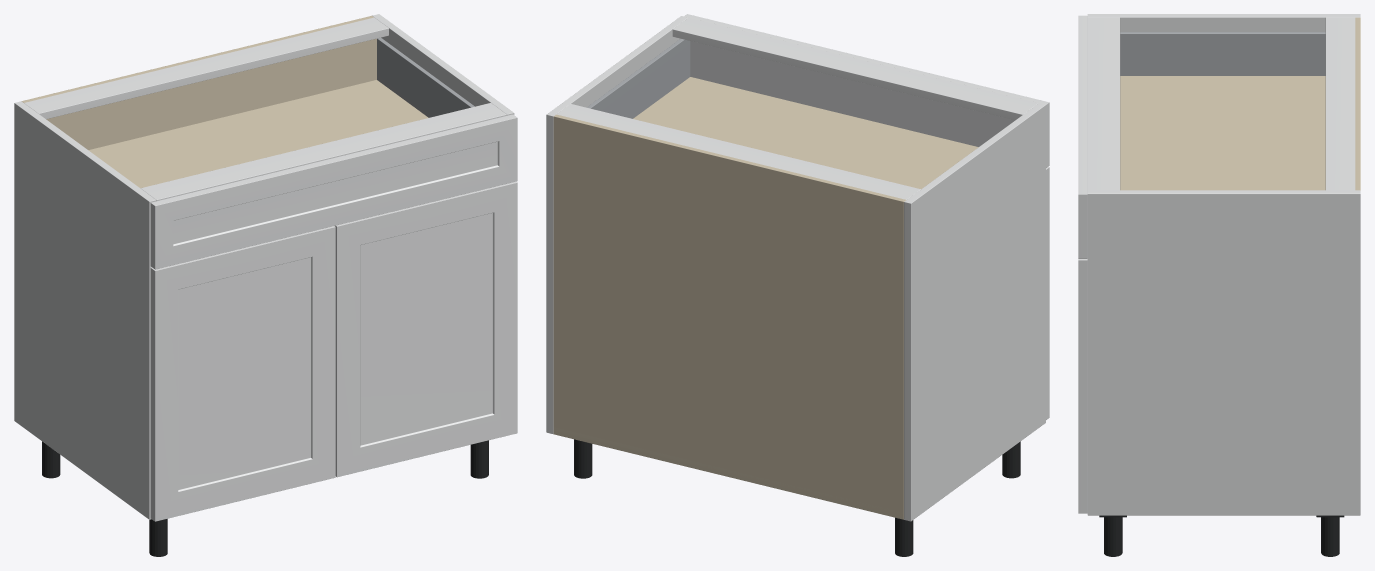
File: PLY-WSS-B36.glb
3 views of the same model, side by side, from view 1: azimuth 30°, elevation 25°; view 2: azimuth 150°, elevation 25°; view 3: azimuth 270°, elevation 25° (orthographic).
Parts seen in each view (by area): view 1: Shaker door, Shaker door.001, Carcass left, Drawer front, Drawer bottom, Drawer back, Top support rail, Top support rail.001, Metal drawer side.001, Carcass right, Carcass back, Adjustable foot.001 (+1 smaller); view 2: Carcass back, Carcass left, Drawer bottom, Drawer front, Top support rail.001, Top support rail, Carcass right, Metal drawer side.001, Carcass bottom, Shaker door, Adjustable foot, Adjustable foot.002; view 3: Carcass right, Drawer bottom, Metal drawer side, Top support rail.001, Top support rail, Carcass left, Shaker door.001, Drawer front, Carcass back, Adjustable foot.003, Adjustable foot.002.
Boxes of the visible parts, bbox=[...] form: Shaker door: bbox=[150, 226, 335, 521]; Shaker door.001: bbox=[335, 181, 517, 477]; Carcass left: bbox=[14, 101, 156, 519]; Drawer front: bbox=[150, 114, 517, 269]; Drawer bottom: bbox=[88, 80, 428, 188]; Drawer back: bbox=[46, 38, 376, 149]; Top support rail: bbox=[24, 17, 388, 119]; Top support rail.001: bbox=[141, 103, 506, 201]; Metal drawer side.001: bbox=[377, 37, 474, 117]; Carcass right: bbox=[372, 14, 514, 115]; Carcass back: bbox=[21, 15, 373, 102]; Adjustable foot.001: bbox=[149, 519, 167, 556]; Carcass back: bbox=[553, 114, 905, 519]; Carcass left: bbox=[904, 103, 1045, 521]; Drawer bottom: bbox=[633, 77, 978, 188]; Drawer front: bbox=[684, 14, 1049, 167]; Top support rail.001: bbox=[672, 17, 1038, 120]; Top support rail: bbox=[556, 104, 920, 199]; Carcass right: bbox=[546, 16, 688, 434]; Metal drawer side.001: bbox=[587, 39, 690, 118]; Carcass bottom: bbox=[553, 427, 902, 518]; Shaker door: bbox=[1046, 167, 1049, 419]; Adjustable foot: bbox=[895, 517, 913, 556]; Adjustable foot.002: bbox=[574, 439, 592, 478]; Carcass right: bbox=[1087, 190, 1360, 515]; Drawer bottom: bbox=[1120, 76, 1325, 190]; Metal drawer side: bbox=[1120, 32, 1325, 75]; Top support rail.001: bbox=[1087, 17, 1120, 190]; Top support rail: bbox=[1325, 17, 1355, 190]; Carcass left: bbox=[1087, 14, 1360, 31]; Shaker door.001: bbox=[1078, 259, 1087, 513]; Drawer front: bbox=[1078, 15, 1087, 258]; Carcass back: bbox=[1355, 17, 1360, 190]; Adjustable foot.003: bbox=[1104, 517, 1122, 556]; Adjustable foot.002: bbox=[1321, 517, 1339, 556].
Bounding box in the file's own units: 0.9144 × 0.8763 × 0.6064.
